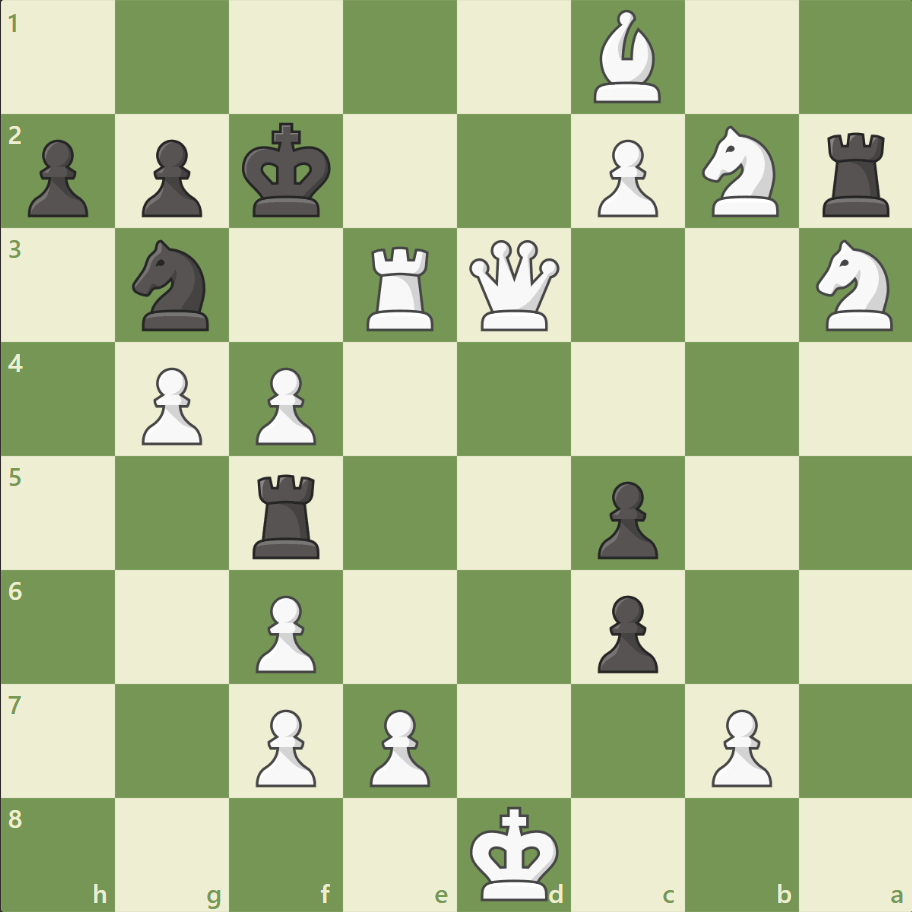B: (585, 6, 669, 109)
K: (465, 798, 565, 906)
N: (806, 234, 903, 337), (692, 121, 789, 223)
P: (701, 700, 776, 791), (247, 700, 322, 791), (247, 586, 322, 677), (247, 359, 322, 450), (133, 359, 208, 450), (361, 700, 435, 791), (588, 132, 662, 223)
Q: (464, 236, 563, 335)
R: (360, 239, 442, 336)
k: (238, 117, 338, 225)
n: (124, 234, 222, 337)
p: (133, 132, 208, 223), (20, 132, 95, 223), (588, 586, 662, 677), (588, 473, 662, 564)
r: (246, 466, 329, 563), (814, 125, 897, 222)
